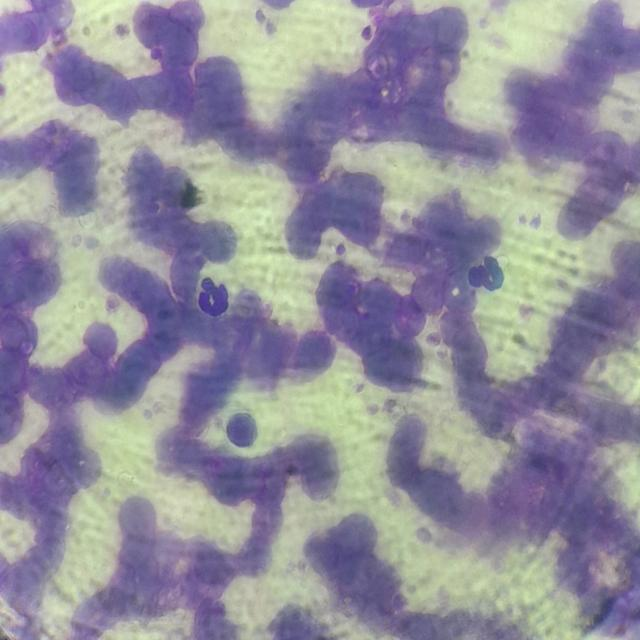Neutrofilo: (466, 250, 509, 297), (196, 278, 233, 317)
